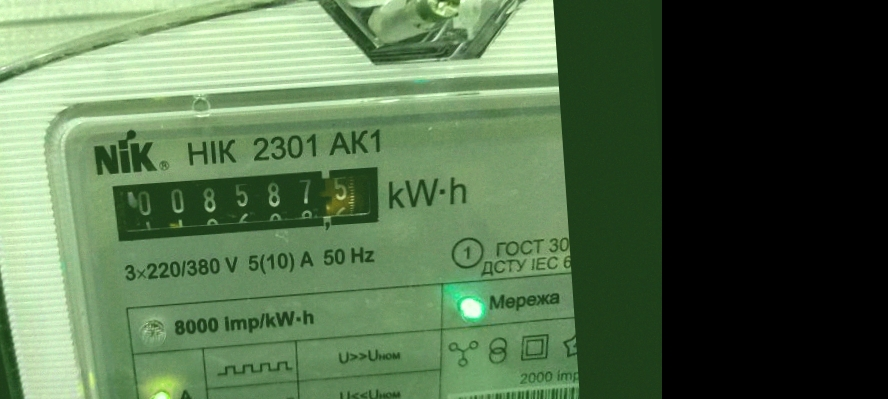0: (133, 187, 152, 217), (167, 185, 186, 215)
5: (331, 173, 350, 204), (231, 180, 250, 209)
7: (295, 175, 314, 206)
8: (263, 178, 282, 209), (199, 184, 217, 213)
screen: (92, 150, 399, 253)
